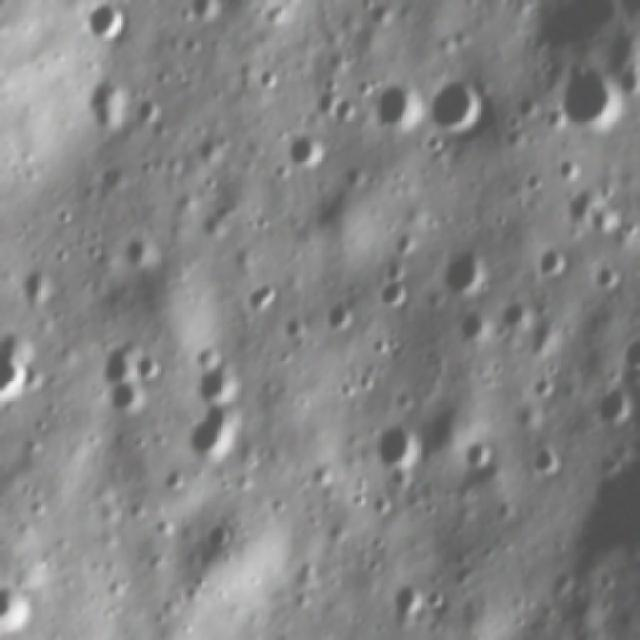crater: (549, 66, 622, 132), (432, 72, 486, 131), (370, 81, 425, 133), (442, 242, 487, 301), (189, 406, 240, 456), (118, 222, 168, 273), (194, 352, 240, 406), (100, 373, 149, 418), (595, 378, 634, 431), (374, 423, 418, 469), (82, 1, 128, 42), (193, 517, 242, 554), (241, 276, 279, 322), (20, 258, 58, 304), (288, 131, 327, 171), (461, 433, 499, 473), (387, 579, 425, 618), (529, 442, 566, 480), (460, 308, 495, 348), (318, 296, 352, 336), (588, 262, 626, 296), (534, 245, 568, 282), (372, 282, 416, 310), (132, 96, 165, 132), (160, 463, 189, 499), (332, 89, 363, 122), (136, 348, 162, 386), (555, 158, 587, 184), (253, 63, 285, 89), (521, 167, 548, 190), (424, 586, 450, 608)
